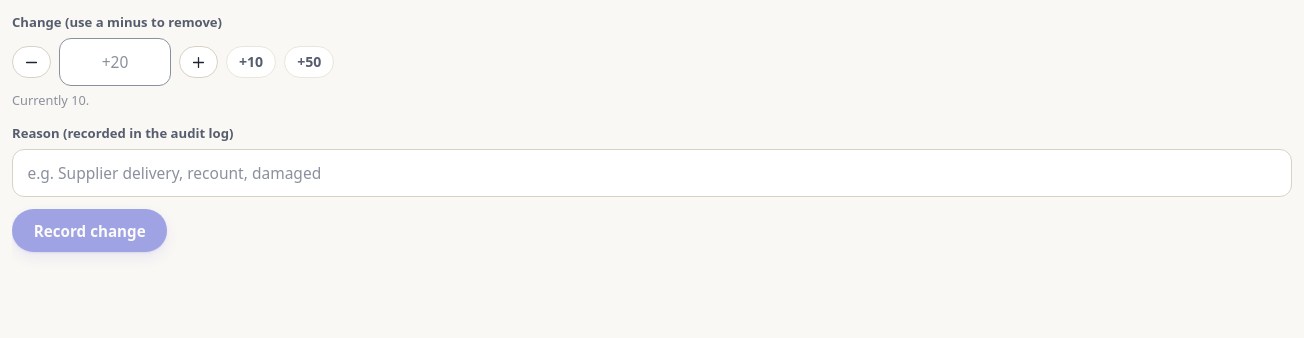
Scenario: AdjustStockForm › explains a server-side refusal without changing anything
The width and height of the screenshot is (1304, 338).
Type "-1" into the field labelled "Change (use a minus to remove)" at (115, 62), box left=59, top=38, right=171, bottom=86
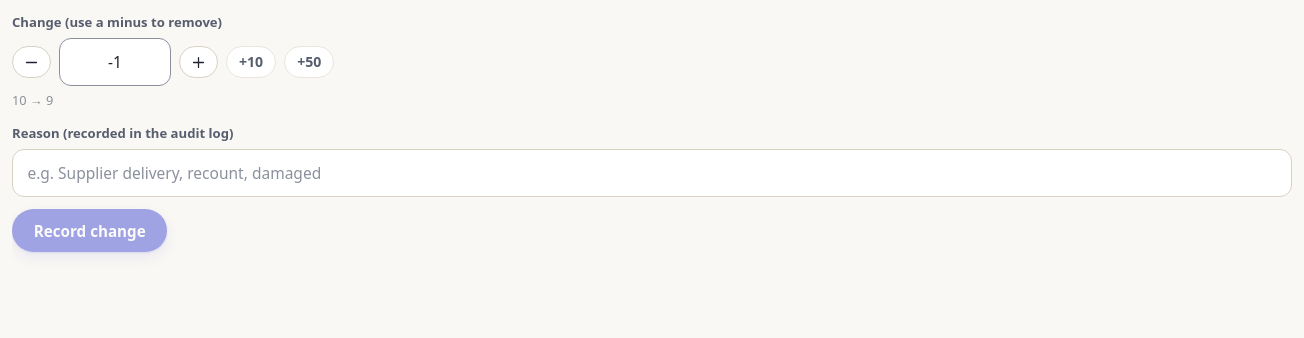
Type "r" into the field labelled "Reason (recorded in the audit log)" at (652, 173), box left=12, top=149, right=1292, bottom=197
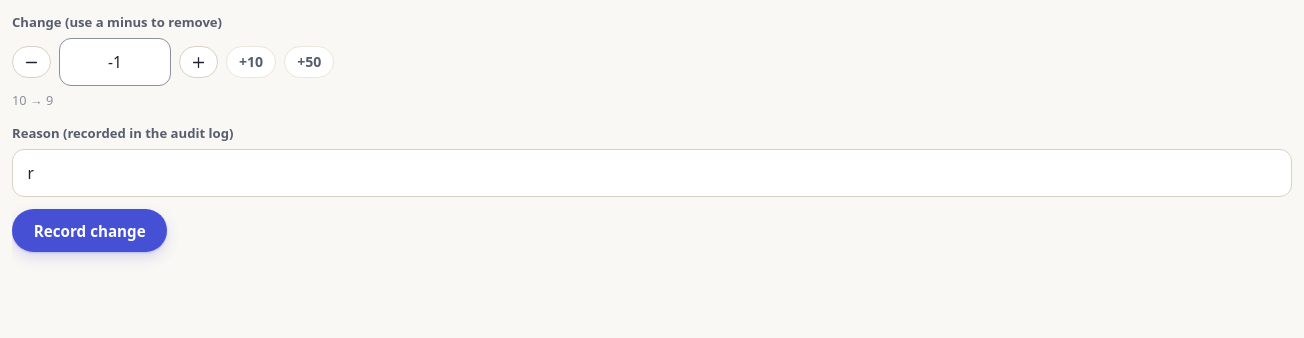
Click the button "Record change" at (90, 231), box left=12, top=209, right=168, bottom=252
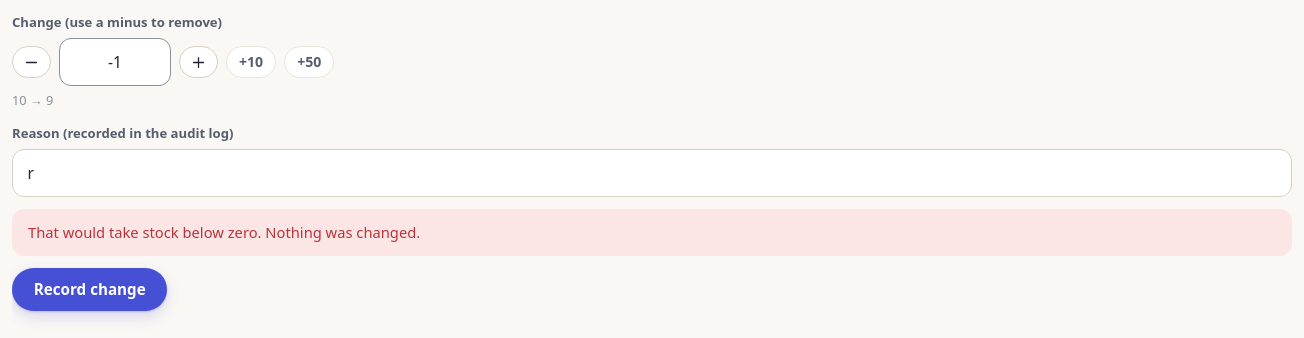
Check: the message shows "below zero", box left=28, top=222, right=420, bottom=242
